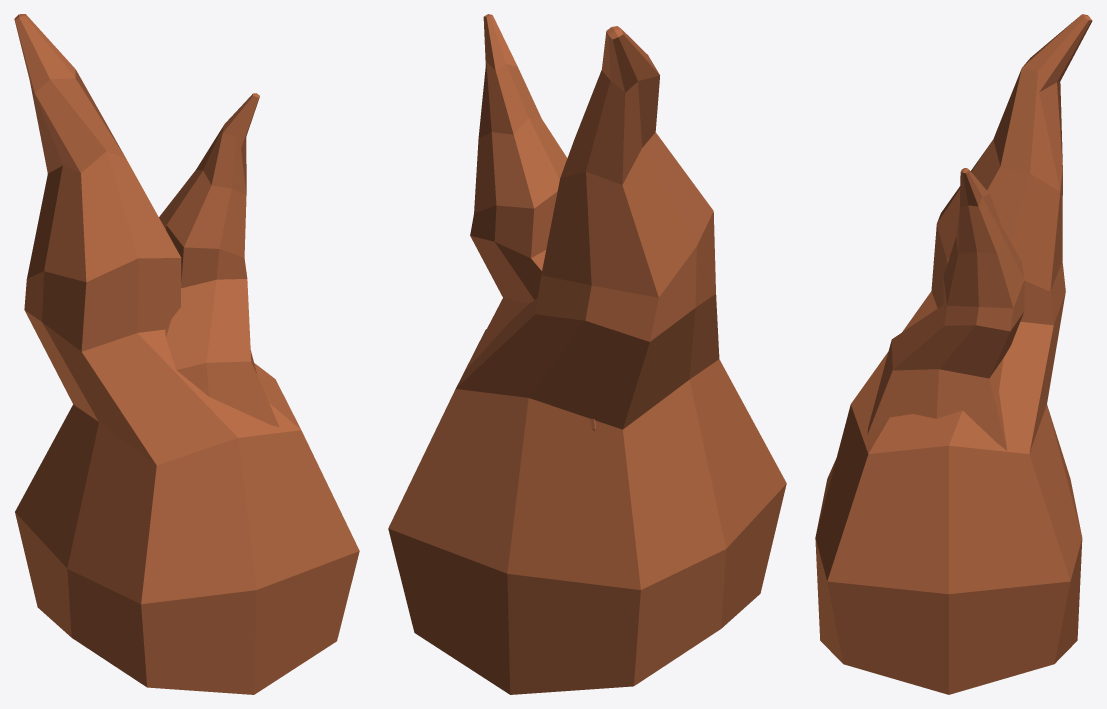
Rendered from rockbig002.fbx.
3 renders of one model, left to right at view 1: azimuth 30°, elevation 25°; view 2: azimuth 150°, elevation 25°; view 3: azimuth 270°, elevation 25°, orthographic. The views are drawn at different scales.
Parts seen in each view (by area): view 1: Cube.002; view 2: Cube.002; view 3: Cube.002.
Boxes of the visible parts, x1,y1,x2,y2 form: Cube.002: (14, 14, 359, 694); Cube.002: (388, 14, 786, 694); Cube.002: (815, 14, 1092, 694).
Size of the model in its own units: 273 by 681 by 283.
